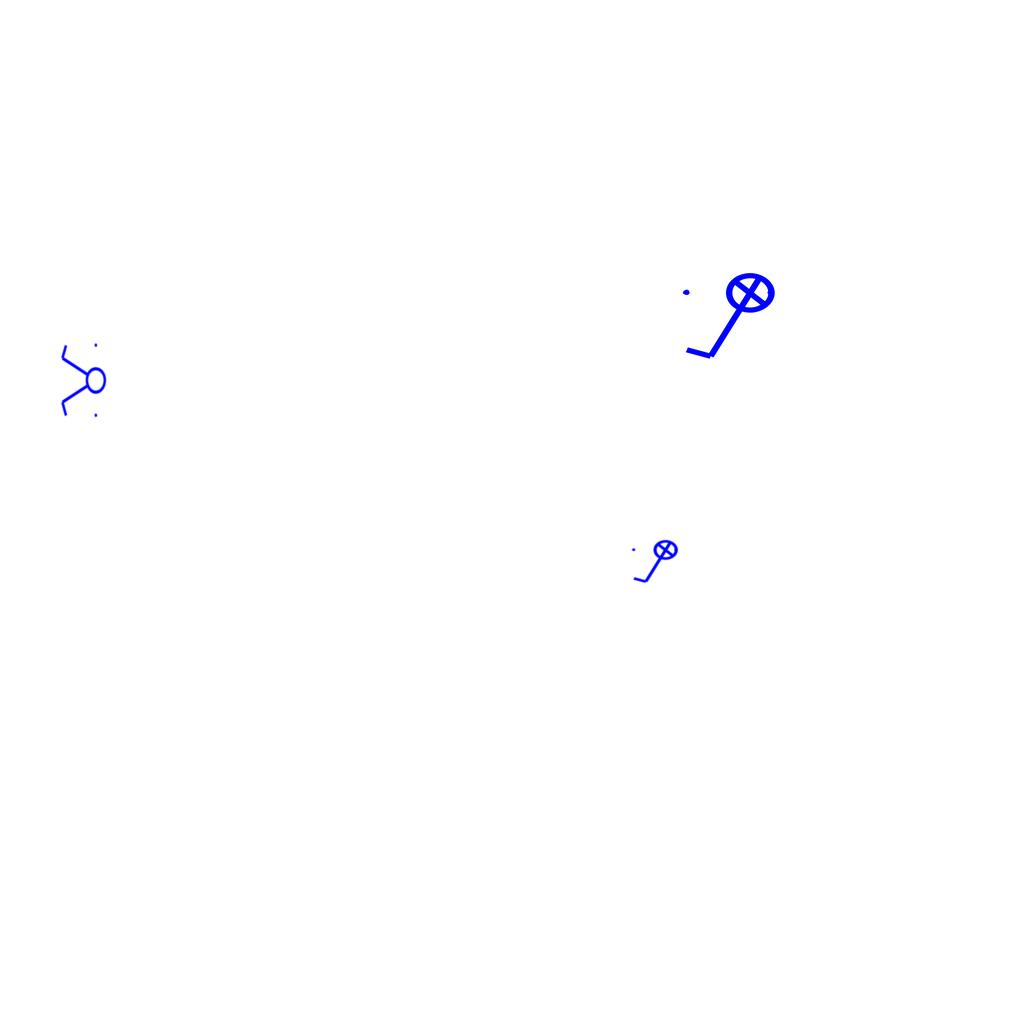Ausschalter_beleuchtet: (677, 271, 789, 367), (629, 539, 685, 587)
Serienschalter: (59, 339, 107, 423)
